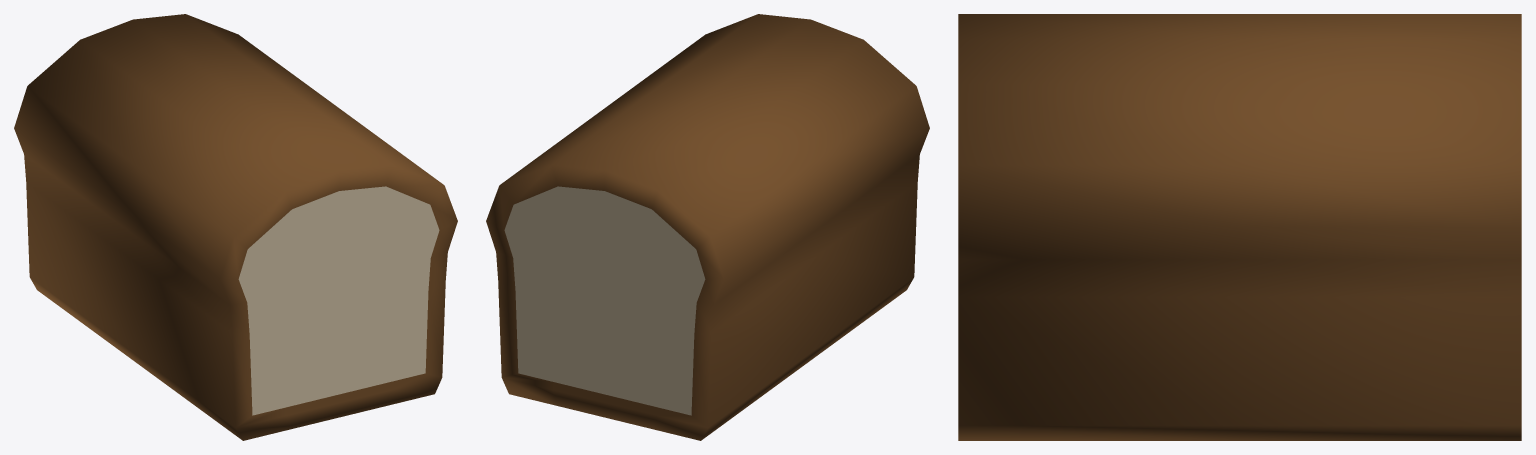
Rendered from pan.fbx.
3 renders of one model, left to right at view 1: azimuth 30°, elevation 25°; view 2: azimuth 150°, elevation 25°; view 3: azimuth 270°, elevation 25°, orthographic. The views are drawn at different scales.
Visible parts, largest first — view 1: Cube; view 2: Cube; view 3: Cube.
Part boxes in pixels (bbox=[...]): Cube: bbox=[14, 14, 457, 440]; Cube: bbox=[486, 14, 929, 440]; Cube: bbox=[958, 14, 1521, 440].
Bounding box in the file's own units: 203 × 201 × 304.
